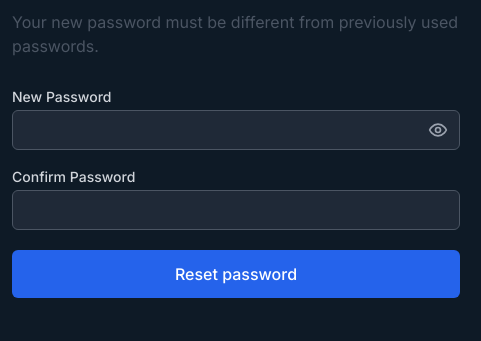
Test: ResetPasswordPage › validates password has uppercase letter
This screenshot has width=481, height=341.
Type "password123!" into the password field labelled "New Password" at (236, 130), box [12, 110, 460, 150]
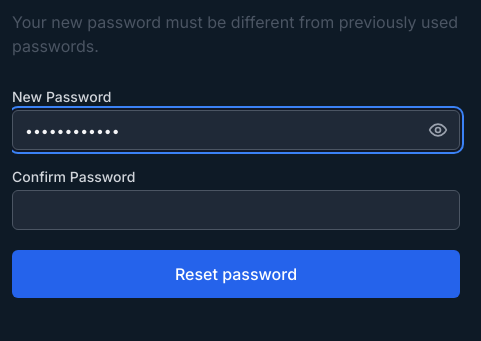
Type "password123!" into the password field labelled "Confirm Password" at (236, 210), box [12, 190, 460, 230]
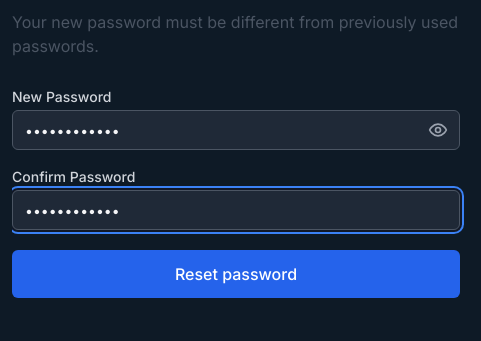
Click the button "Reset password" at (236, 274), box [12, 250, 460, 298]
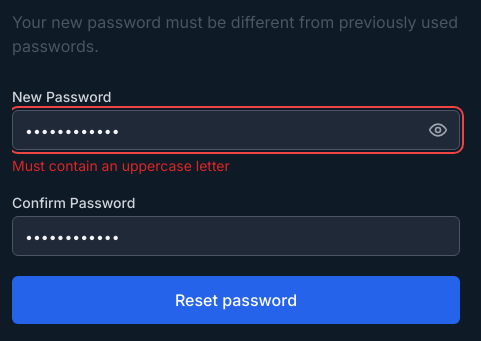
Now the text "Must contain an uppercase letter" is shown, box [12, 157, 230, 174]
